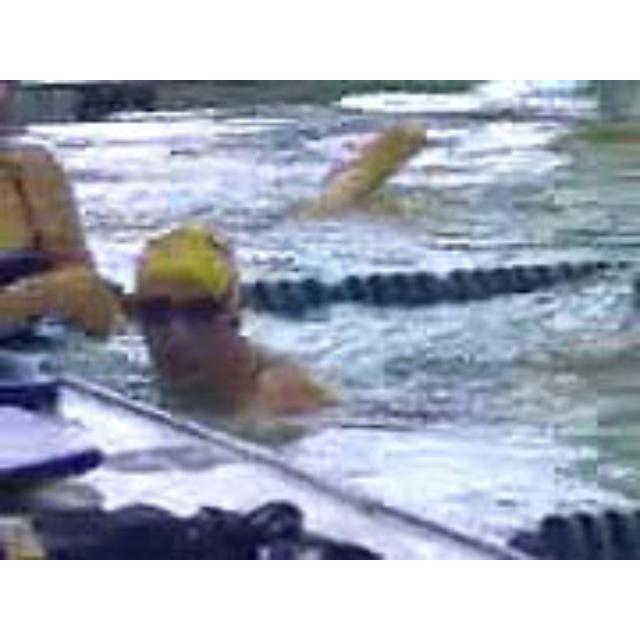human: (123, 229, 311, 428)
